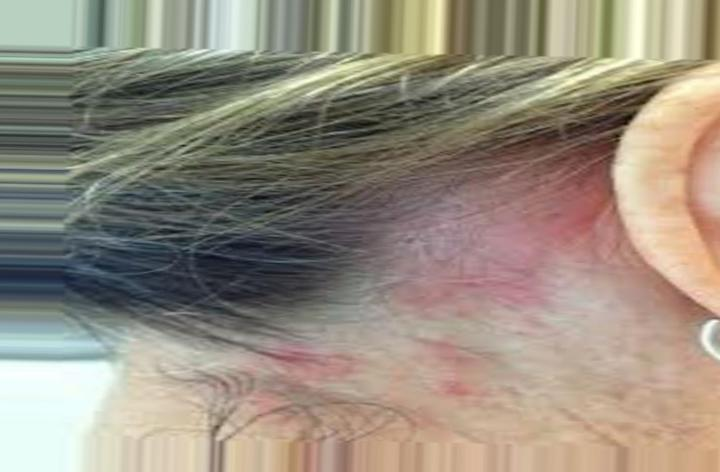Contact Dermatitis: (325, 160, 606, 414)
